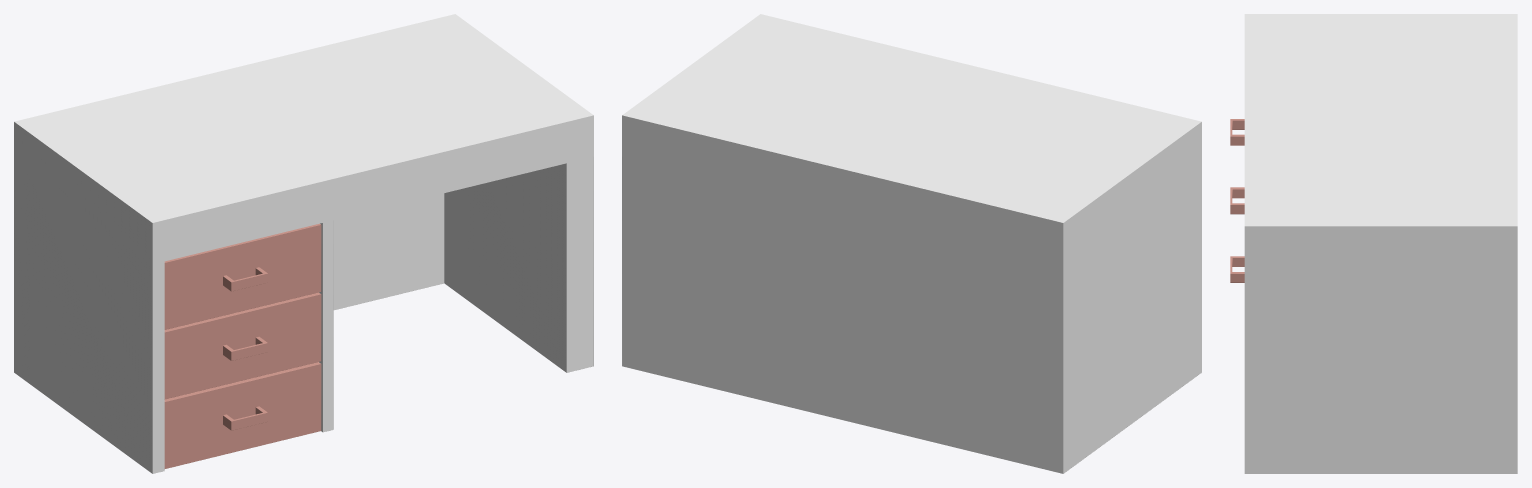
File: deskUVwithoutBevel(addedMaterial.fbx
The picture shows the model from 3 angles, left to right: view 1: azimuth 30°, elevation 25°; view 2: azimuth 150°, elevation 25°; view 3: azimuth 270°, elevation 25°; orthographic projection.
Parts seen in each view (by area): view 1: Desktoppiece, Deskbackpiece, Drawer, Drawer.001, Drawer.002, Deskmiddlepiece; view 2: Deskbackpiece, Desktoppiece; view 3: Desktoppiece, Deskbackpiece, Drawer.001, Drawer.002, Drawer.
Boxes of the visible parts, x1,y1,x2,y2 form: Desktoppiece: (14, 14, 593, 264); Deskbackpiece: (14, 156, 593, 473); Drawer: (164, 362, 321, 468); Drawer.001: (164, 292, 321, 399); Drawer.002: (164, 223, 321, 329); Deskmiddlepiece: (319, 220, 333, 432); Deskbackpiece: (622, 156, 1201, 473); Desktoppiece: (622, 14, 1201, 264); Desktoppiece: (1244, 14, 1517, 267); Deskbackpiece: (1244, 267, 1517, 473); Drawer.001: (1230, 187, 1244, 214); Drawer.002: (1230, 119, 1244, 145); Drawer: (1230, 256, 1244, 282).
Bounding box in the file's own units: 337 × 183 × 193.
